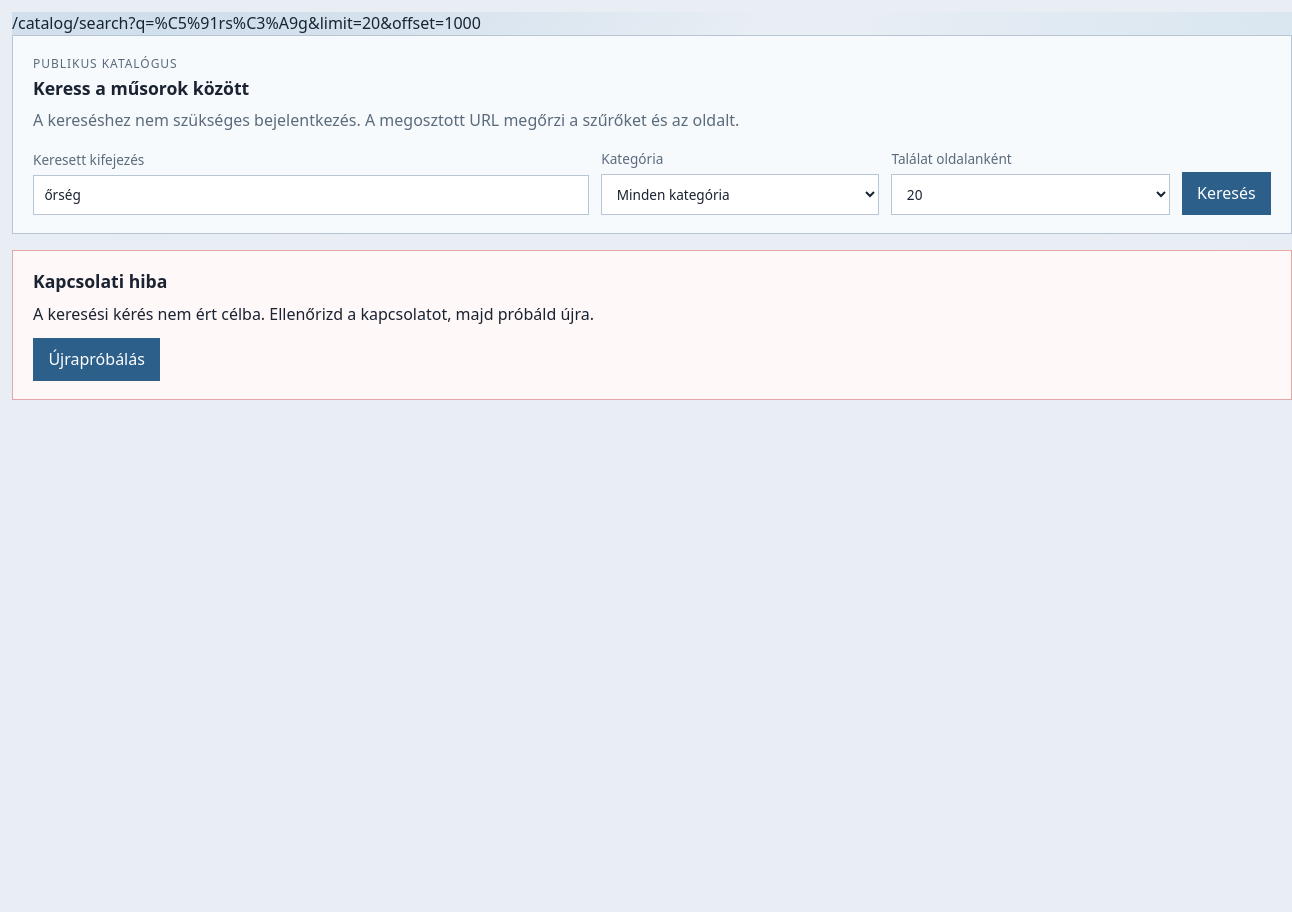
Test: CatalogSearchPage › shows a retryable network state and enforces the offset ceiling
expect the heading "Kapcsolati hiba" is shown: met, box [33,269,167,293]
Click the button "Újrapróbálás".
click(97, 359)  # box [33,338,160,381]
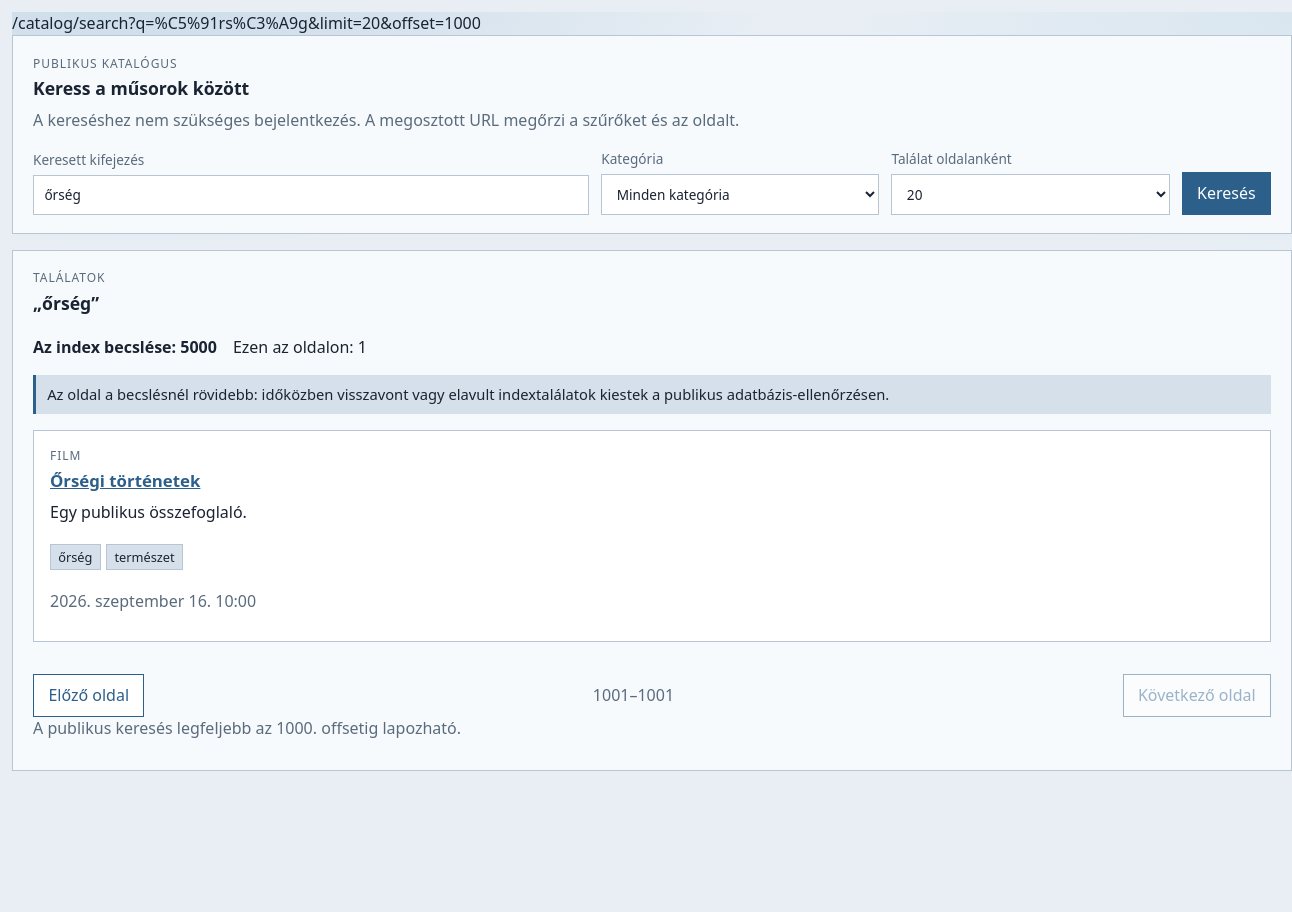
expect the button "Következő oldal" is disabled: met, box [1122,674,1271,717]
